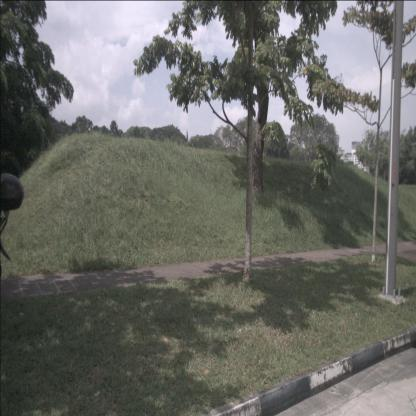vehicle-bicycle: (0, 172, 24, 278)
